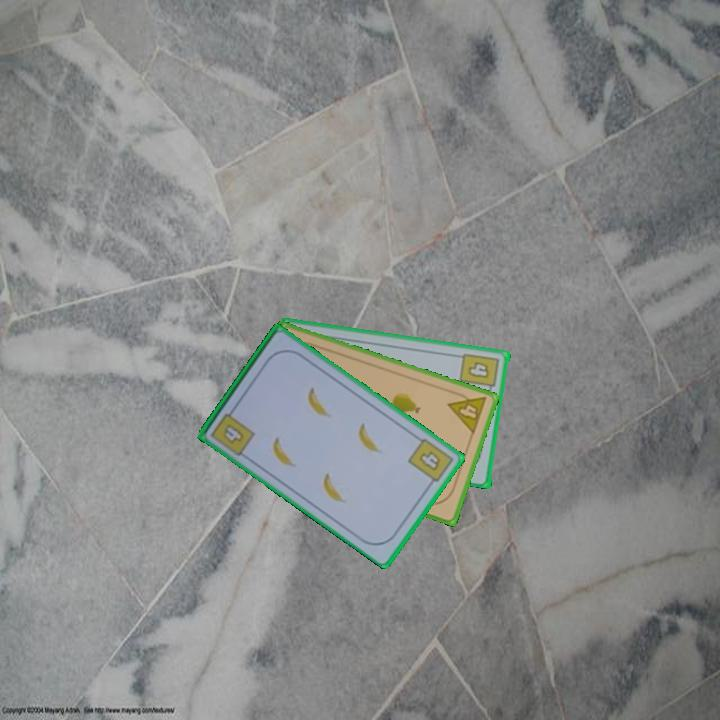4b: (404, 434, 456, 490), (207, 403, 258, 459), (457, 349, 502, 397)
4p: (444, 387, 489, 437)
